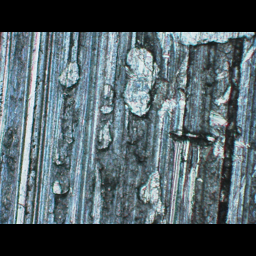d: (49, 92, 78, 197), (121, 42, 161, 118), (137, 167, 167, 217), (55, 58, 80, 89), (96, 82, 116, 118), (94, 120, 116, 149)
